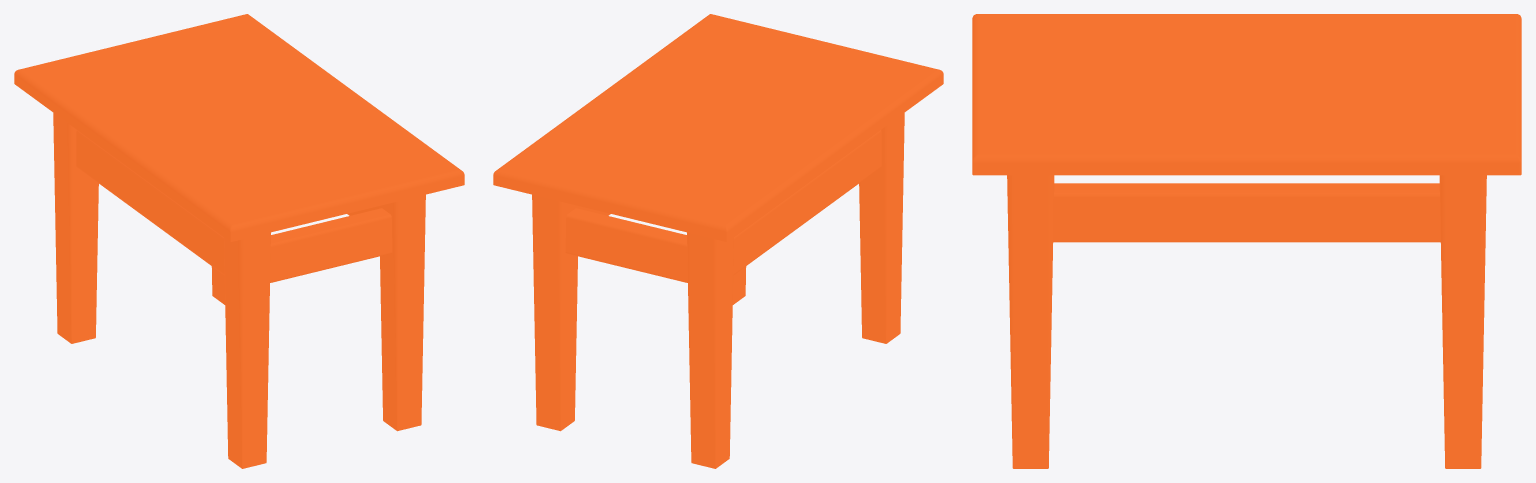
File: table.glb
The picture shows the model from 3 angles, left to right: view 1: azimuth 30°, elevation 25°; view 2: azimuth 150°, elevation 25°; view 3: azimuth 270°, elevation 25°; orthographic projection. The views are drawn at different scales.
Parts seen in each view (by area): view 1: node_id5; view 2: node_id5; view 3: node_id5.
Part boxes in pixels (left/top/right/bottom): node_id5: left=14, top=14, right=464, bottom=468; node_id5: left=493, top=14, right=943, bottom=468; node_id5: left=972, top=14, right=1521, bottom=468.
Size of the model in its own units: 0.483 by 0.512 by 0.7728.
